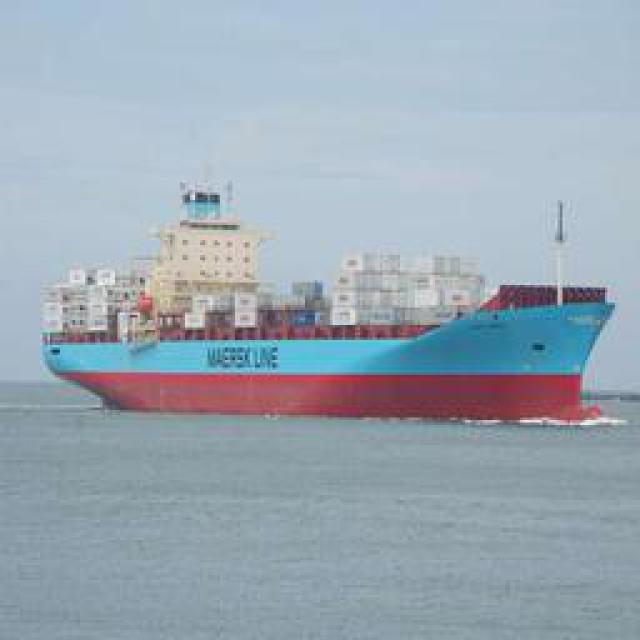Ship: (61, 177, 616, 417)
